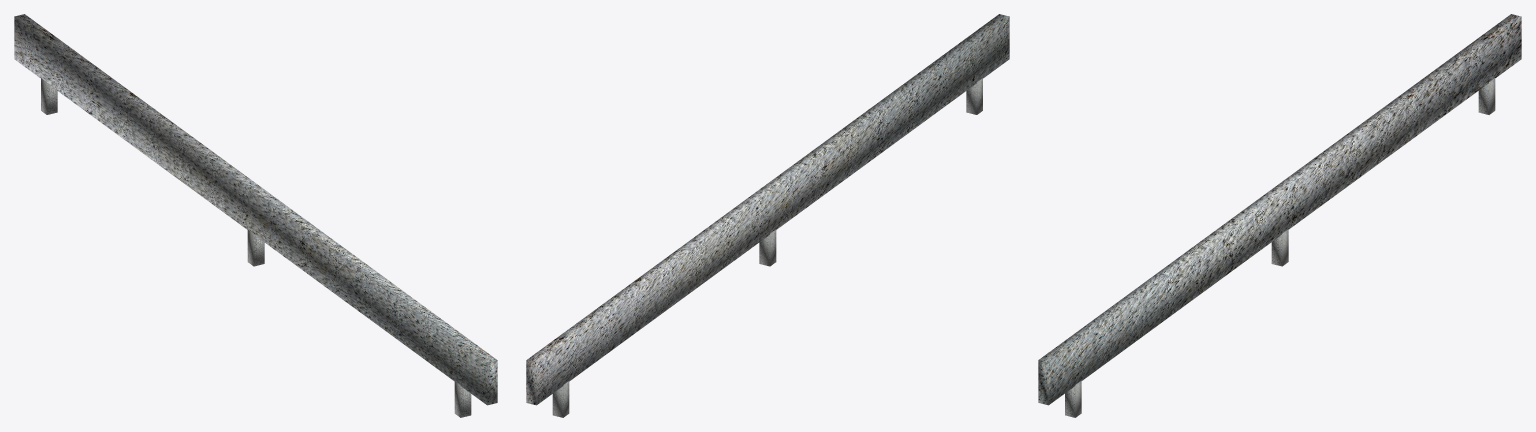
File: wall.obj
3 views of the same model, side by side, from view 1: azimuth 30°, elevation 25°; view 2: azimuth 150°, elevation 25°; view 3: azimuth 330°, elevation 25° (orthographic).
Parts seen in each view (by area): view 1: scene_wall; view 2: scene_wall; view 3: scene_wall.
Part boxes in pixels (box(x1,y1,x2,y2)): scene_wall: box(14, 14, 497, 417); scene_wall: box(526, 14, 1009, 417); scene_wall: box(1038, 14, 1521, 417).
Bounding box in the file's own units: 0.2081 × 1.4 × 16.
Materials: 1 (1 with a texture image).
